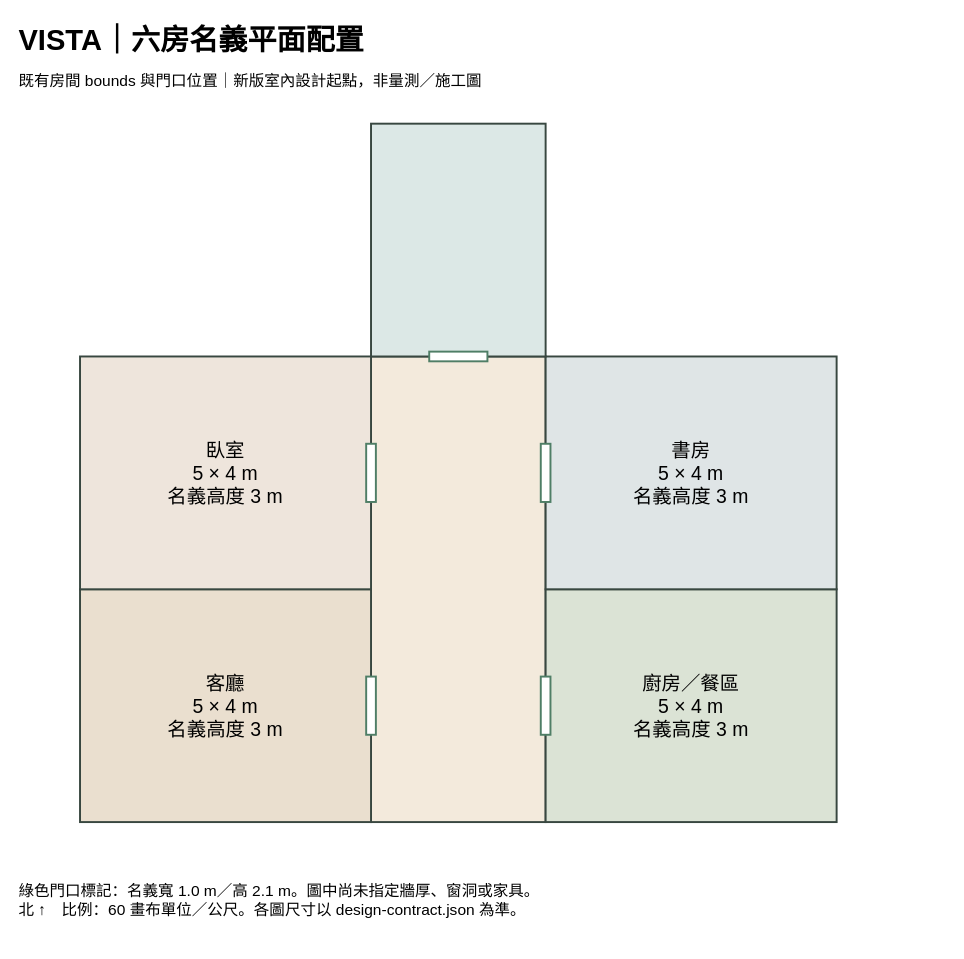
Some shapes in this 964 by 959 pixel diagram are drawn without their labels. Here are the shapes that lost their labels. From the top down, the centre of each, then its label:
At [458,239]: "衛浴／洗衣 3 × 4 m 名義高度 3 m".
At [458,589]: "玄關／走廊 3 × 8 m 名義高度 3 m".
